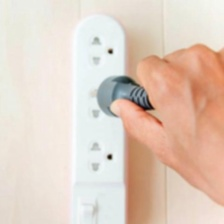three_eye_plug: (66, 7, 132, 223)
